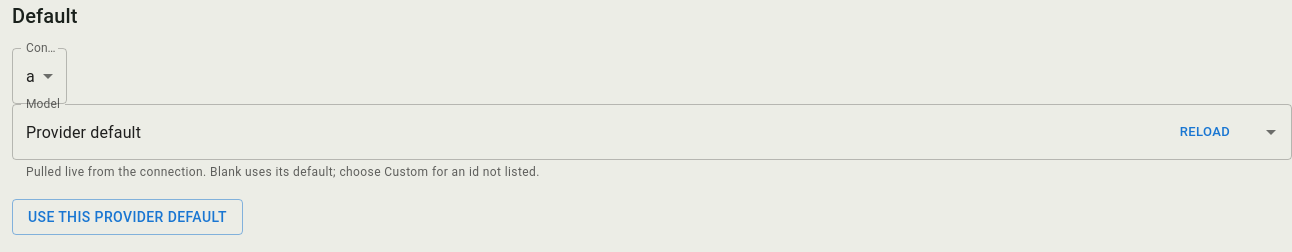
Test: initial and reconciled provider default › does not write on hydration; explicit fallback commit works with a sole provider
Expected: the text "Saved." is not shown
Step 1. Click the button "Use this provider default" → (127,217), box [12,199,243,235]
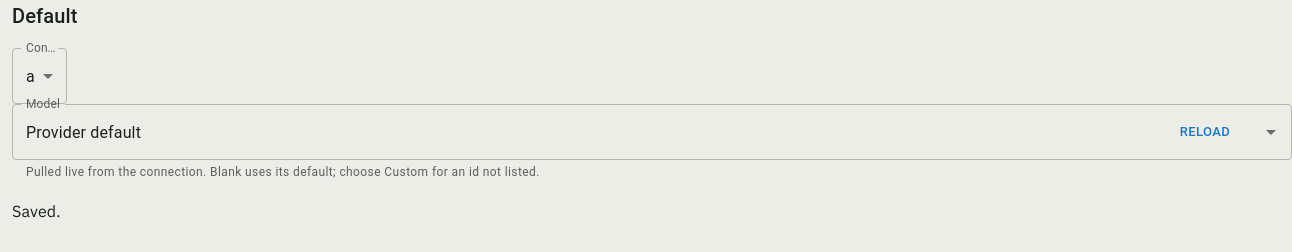
Expected: the text "Saved." is shown, [12,201,61,221]
